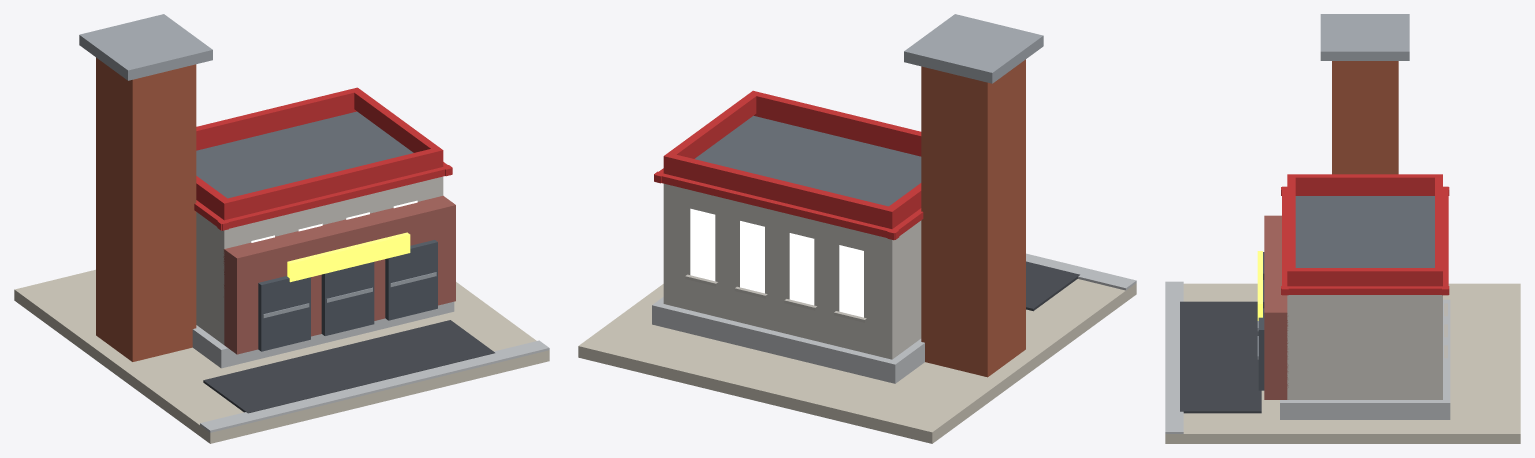
3 renders of one model, left to right at view 1: azimuth 30°, elevation 25°; view 2: azimuth 150°, elevation 25°; view 3: azimuth 270°, elevation 25°, orthographic. The views are drawn at different scales.
Parts seen in each view (by area): view 1: b30_v2_lod1; view 2: b30_v2_lod1; view 3: b30_v2_lod1.
Boxes of the visible parts, box(x1,y1,x2,y2) form: b30_v2_lod1: box(14, 14, 549, 443); b30_v2_lod1: box(578, 14, 1136, 443); b30_v2_lod1: box(1165, 14, 1520, 443).
Bounding box in the file's own units: 0.96 × 0.838 × 0.96.
